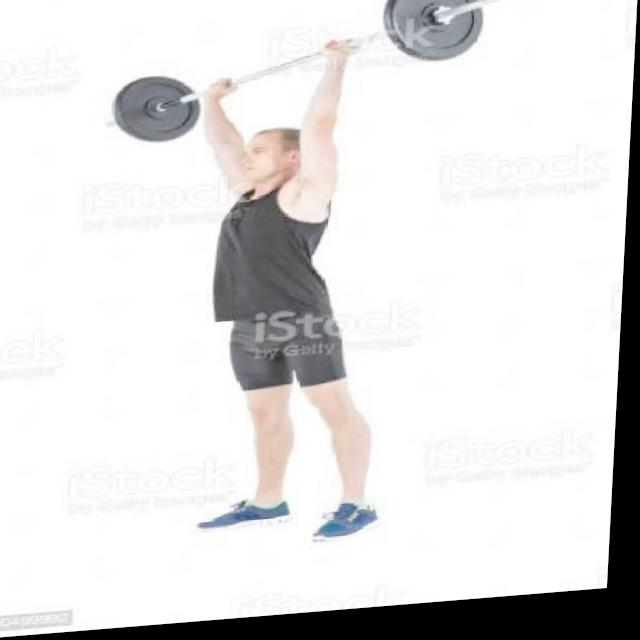barbell: (382, 1, 531, 71)
